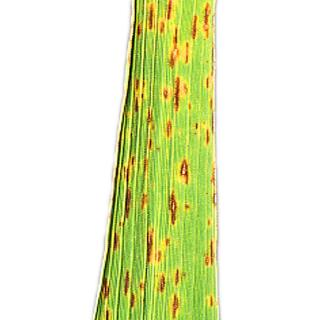Bercak-Cokelat-Sempit: (117, 268, 145, 314), (131, 77, 156, 125), (163, 74, 191, 115), (164, 191, 190, 234), (126, 186, 158, 220), (143, 228, 171, 266), (209, 164, 226, 212), (176, 156, 198, 189), (202, 0, 215, 42), (205, 242, 217, 277), (154, 273, 170, 296), (145, 3, 157, 32), (112, 228, 124, 256), (102, 273, 109, 320), (172, 293, 184, 320), (165, 0, 178, 20), (163, 120, 176, 140), (172, 270, 183, 292), (172, 26, 178, 66), (134, 22, 148, 38), (159, 18, 170, 36), (182, 40, 189, 66), (192, 14, 198, 44), (206, 291, 214, 307)
